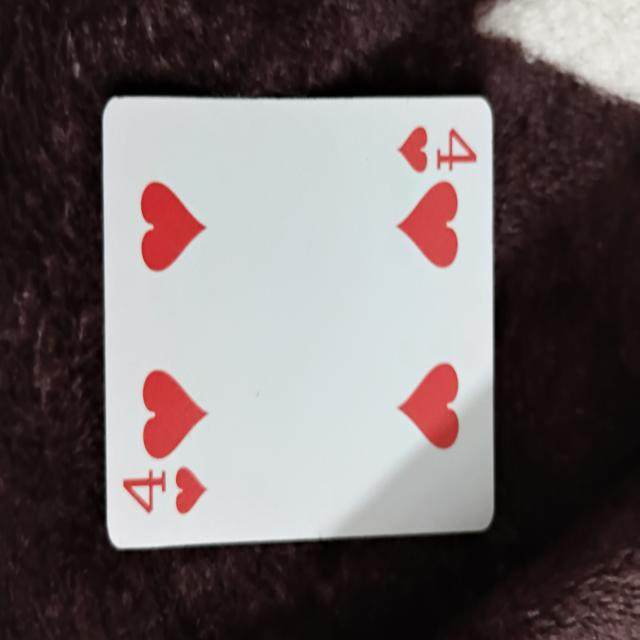4H: (102, 96, 494, 532)
